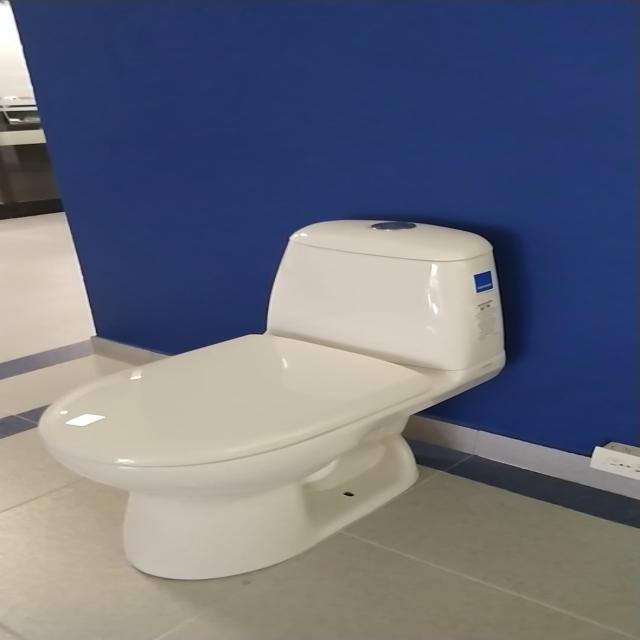toilet: (36, 218, 506, 580)
